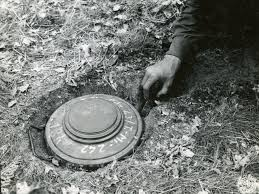car: (31, 81, 149, 181)
